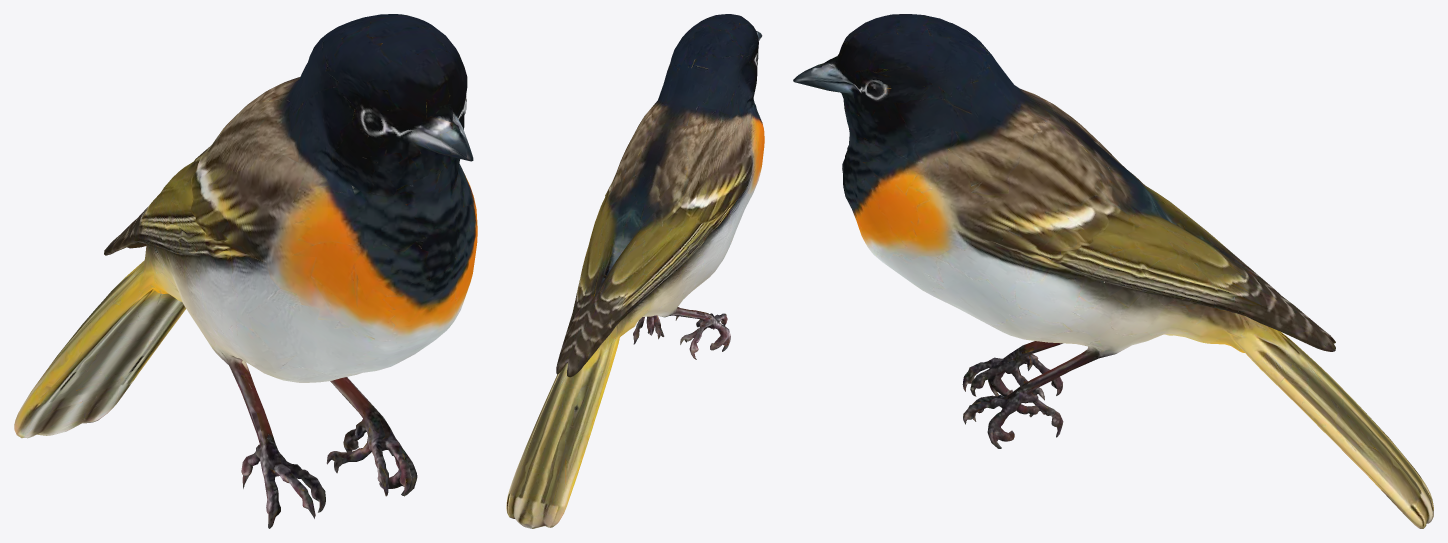
File: bird-roodborsttapuit.glb
3 renders of one model, left to right at view 1: azimuth 30°, elevation 25°; view 2: azimuth 150°, elevation 25°; view 3: azimuth 270°, elevation 25°, orthographic. The views are drawn at different scales.
Size of the model in its own units: 0.5081 by 1.65 by 1.91.
1 material, 1 textured.
